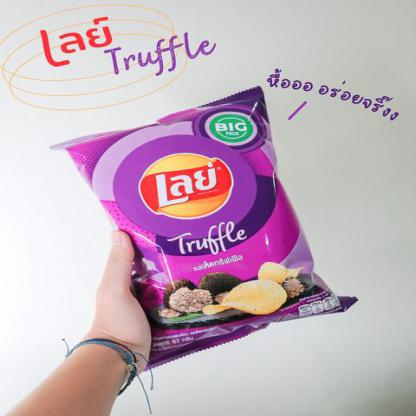potatochip: (53, 87, 365, 379)
